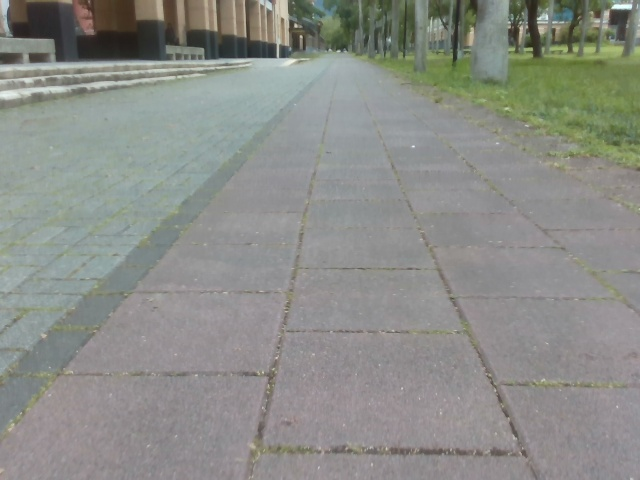grass: (360, 45, 639, 171), (290, 0, 475, 64), (509, 0, 615, 58)
road: (0, 54, 639, 479)
sidewalk: (0, 61, 247, 111)
